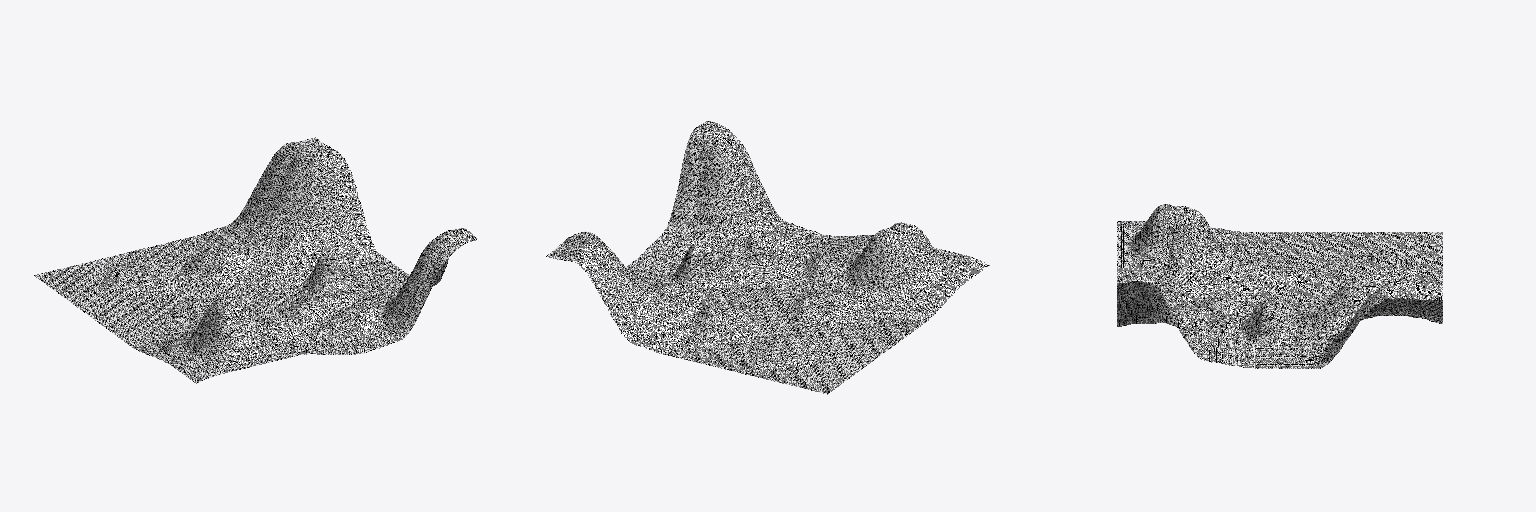
The picture shows the model from 3 angles: view 1: azimuth 30°, elevation 25°; view 2: azimuth 150°, elevation 25°; view 3: azimuth 270°, elevation 25°; orthographic projection.
Visible parts, largest first — view 1: Plane; view 2: Plane; view 3: Plane.
Boxes of the visible parts, <box> form: Plane: <box>34,137,477,383</box>; Plane: <box>546,121,989,394</box>; Plane: <box>1117,204,1442,368</box>.
Bounding box in the file's own units: 252 × 76 × 252.
Materials: 1 (1 with a texture image).